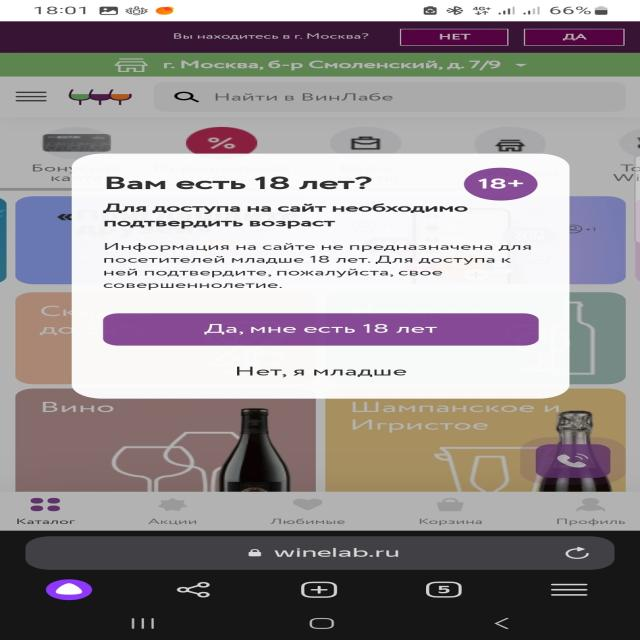button: (105, 314, 540, 346), (105, 358, 538, 385), (397, 28, 514, 44), (520, 30, 626, 44)
site: (72, 156, 570, 399), (2, 22, 640, 51)
